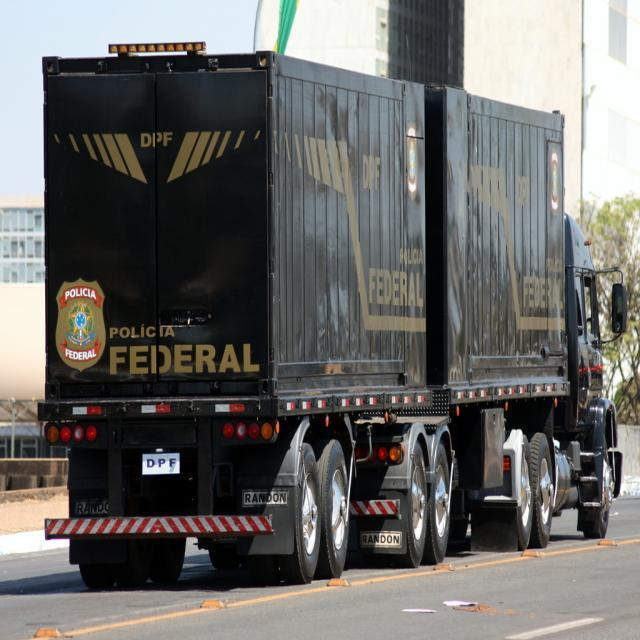bicycle: (12, 36, 630, 592)
